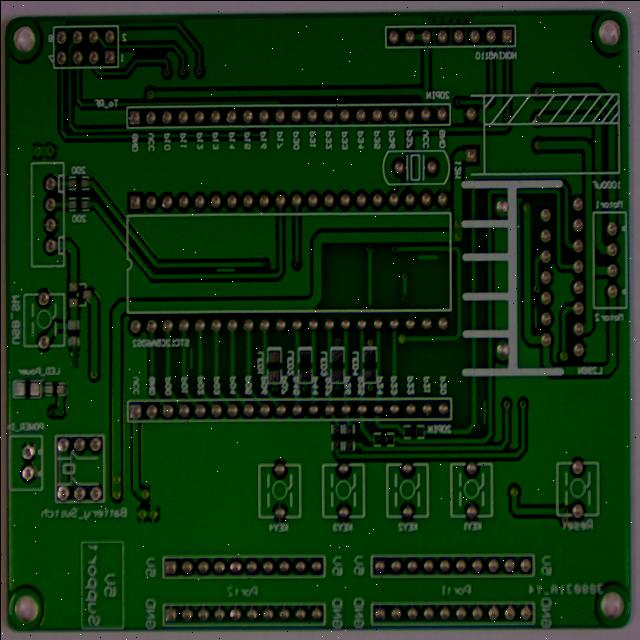spurious_copper: (453, 183, 486, 201), (202, 292, 215, 331), (232, 197, 260, 215), (525, 355, 538, 392), (582, 247, 593, 284)
